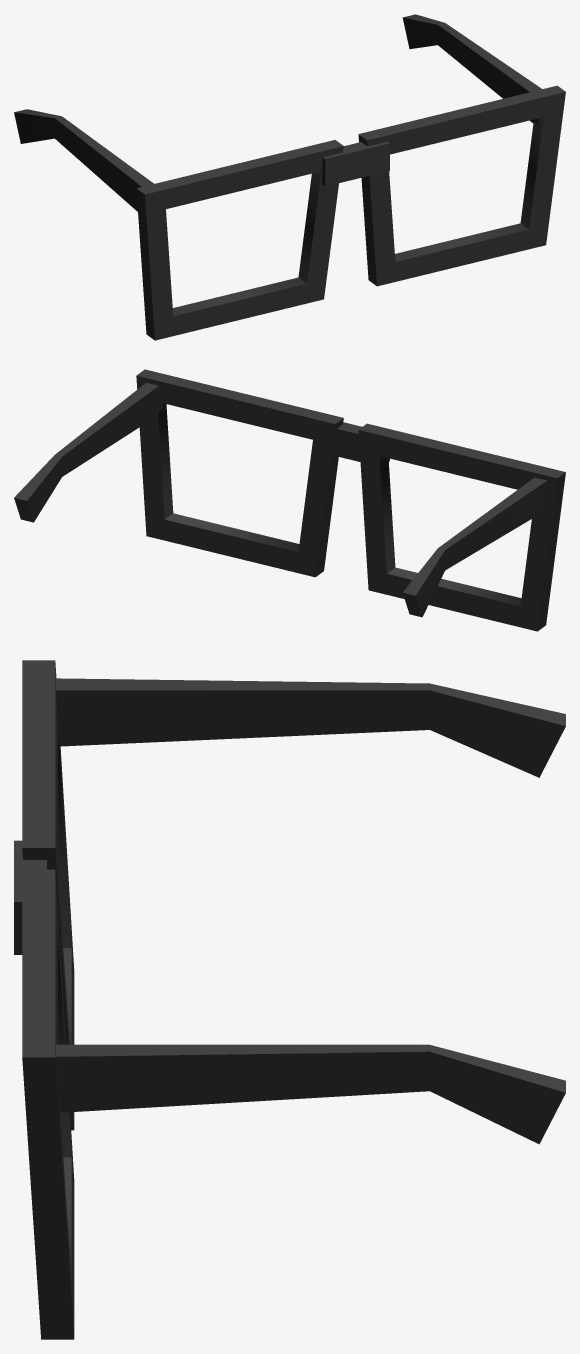
Rendered from Item_Glasses00.FBX.
3 views of the same model, one above another, from view 1: azimuth 30°, elevation 25°; view 2: azimuth 150°, elevation 25°; view 3: azimuth 270°, elevation 25° (orthographic). The views are drawn at different scales.
Parts seen in each view (by area): view 1: Item_Glasses00; view 2: Item_Glasses00; view 3: Item_Glasses00.
Part boxes in pixels (x1=…): Item_Glasses00: x1=14, y1=14, x2=565, y2=340; Item_Glasses00: x1=14, y1=369, x2=565, y2=631; Item_Glasses00: x1=14, y1=660, x2=565, y2=1339.
Size of the model in its own units: 43.02 by 14.97 by 25.27.
